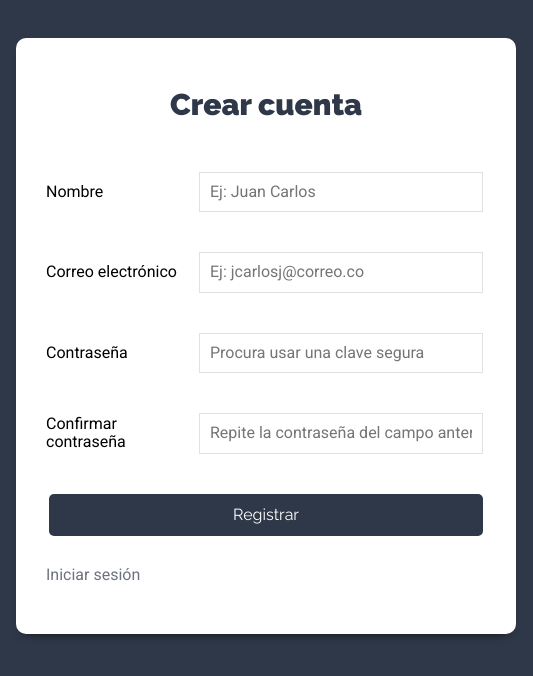
it: <SignUp /> › Debe mostrar mensaje de error al hacer click con formulario vacio
The width and height of the screenshot is (533, 676).
Step 1. Click the button with test id "signup-button-submit" → [266, 515], box [49, 494, 483, 536]
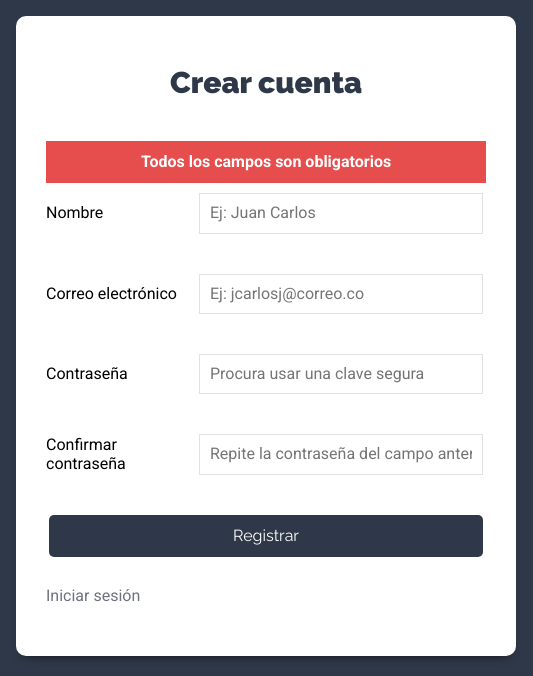
Check: the text with test id "alert-error" reads "Todos los campos son obligatorios", box [46, 141, 486, 183]
